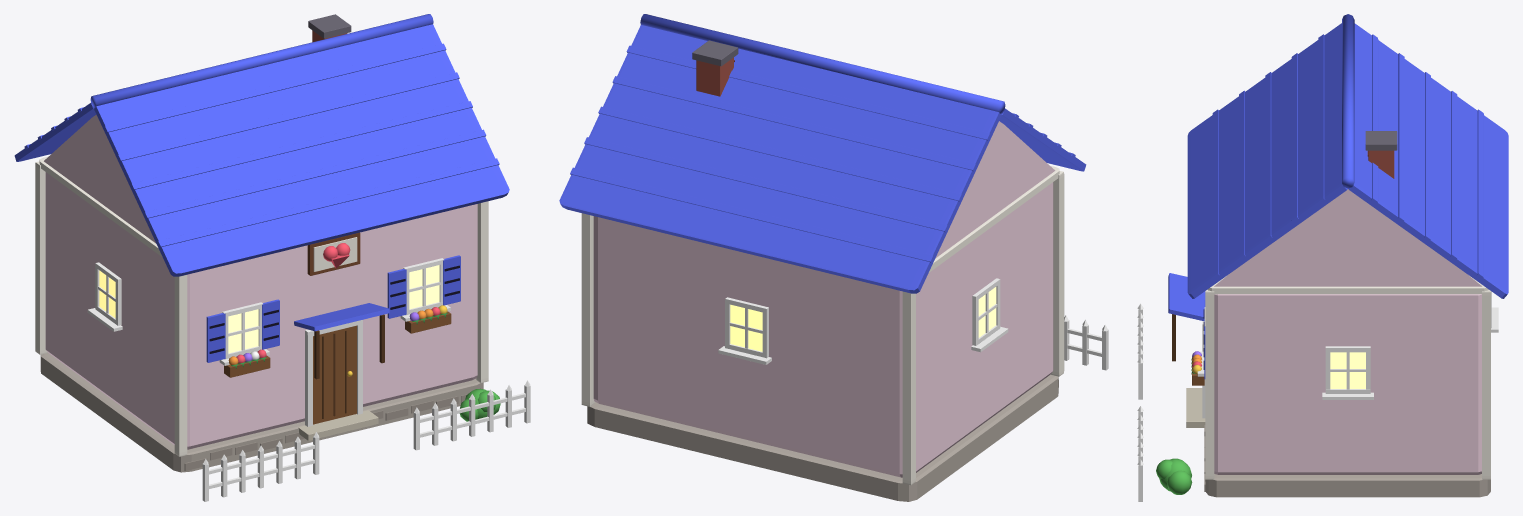
Rendered from pokoj.glb.
The picture shows the model from 3 angles, left to right: view 1: azimuth 30°, elevation 25°; view 2: azimuth 150°, elevation 25°; view 3: azimuth 270°, elevation 25°; orthographic projection. The views are drawn at different scales.
Parts seen in each view (by area): view 1: pokoj; view 2: pokoj; view 3: pokoj.
Part boxes in pixels (bbox=[...]): pokoj: bbox=[14, 14, 530, 501]; pokoj: bbox=[559, 14, 1108, 501]; pokoj: bbox=[1137, 14, 1508, 501].
Bounding box in the file's own units: 6.74 × 6.35 × 6.45.
2 materials, 2 textured.
